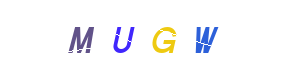G: (124, 0, 204, 80)
M: (41, 0, 121, 80)
U: (105, 0, 185, 80)
W: (132, 0, 212, 80)
